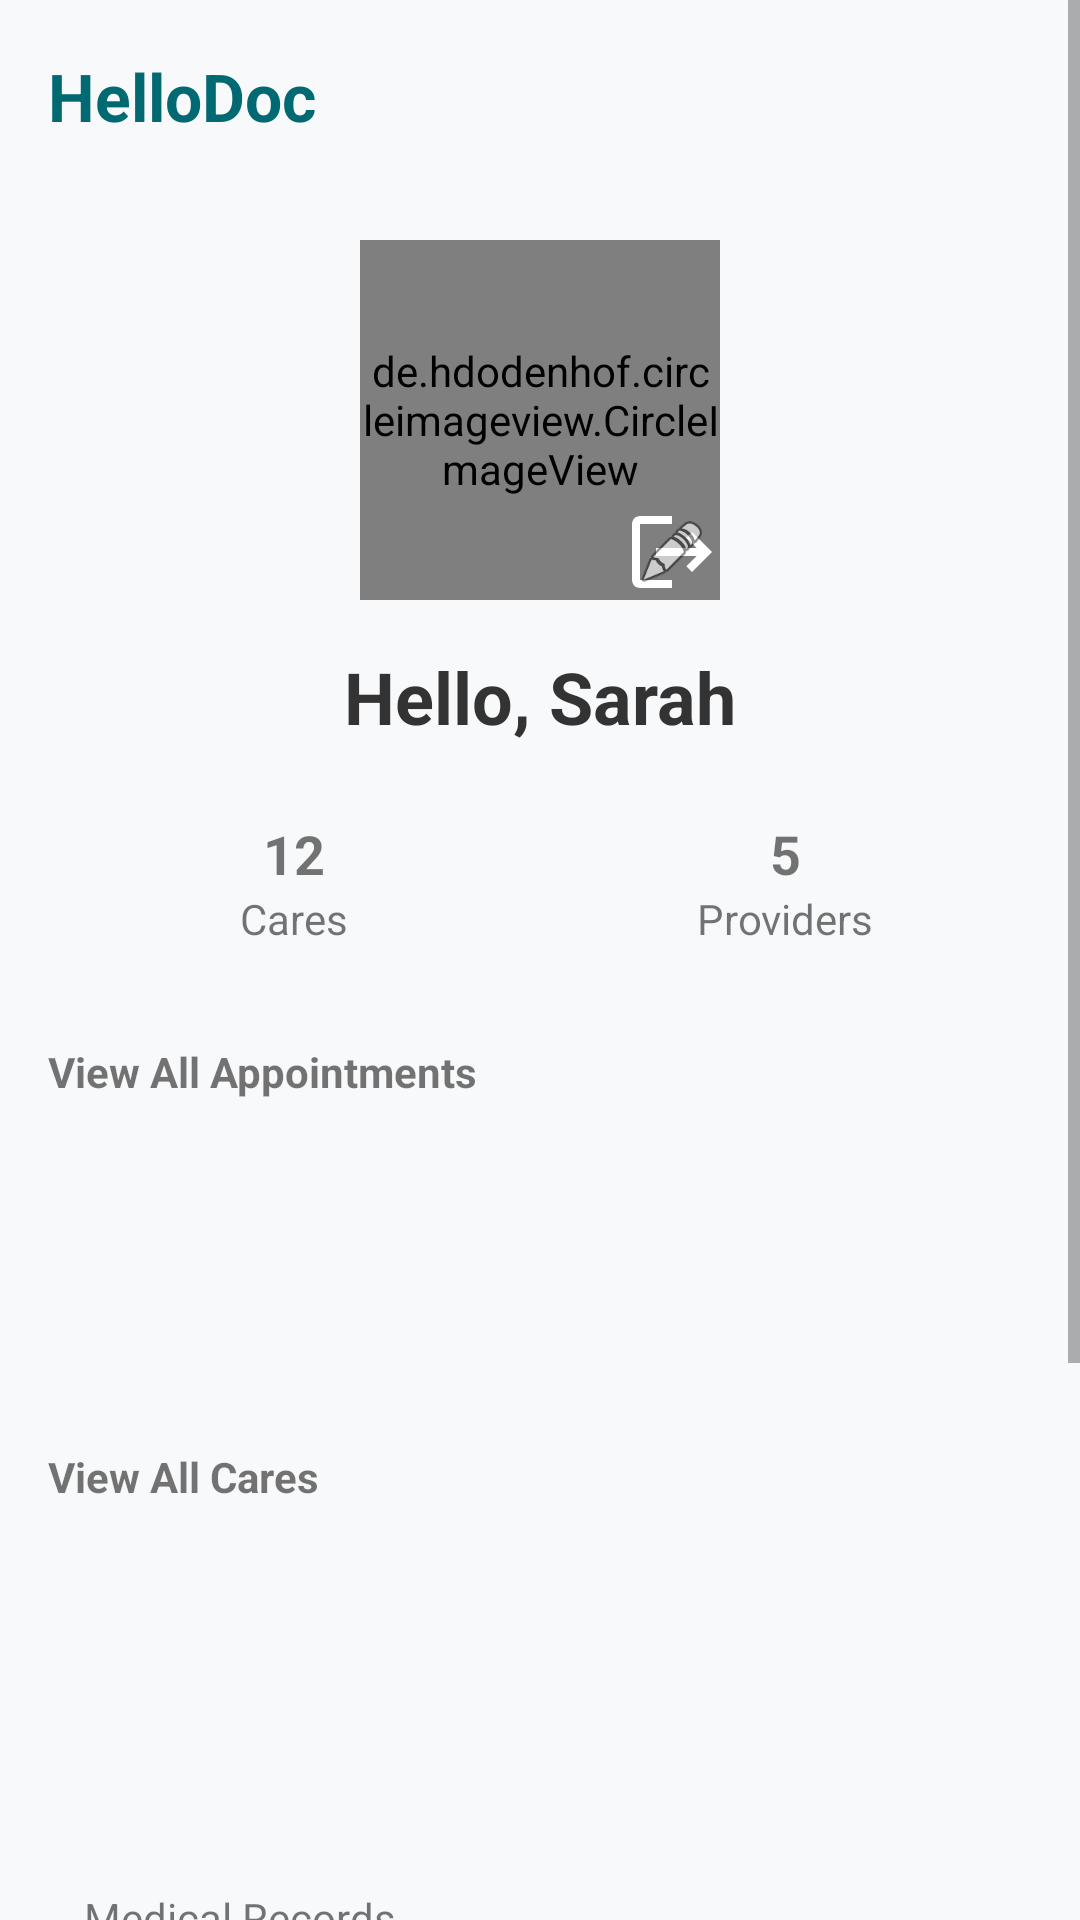

Icons on this 1080*1920 Android screen, each with the point to tap as point (x, y):
edit: point (672, 552)
